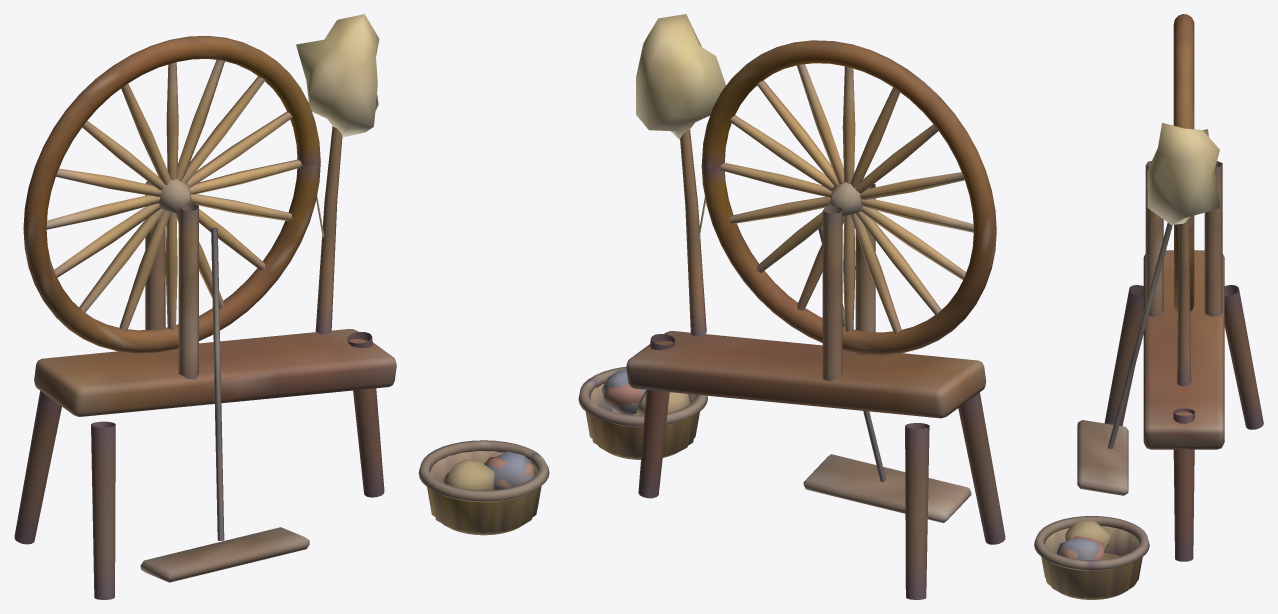
The model's file is cikrik.glb.
3 views of the same model, side by side, from view 1: azimuth 30°, elevation 25°; view 2: azimuth 150°, elevation 25°; view 3: azimuth 270°, elevation 25° (orthographic). The views are drawn at different scales.
Parts seen in each view (by area): view 1: cikrik_LOD0; view 2: cikrik_LOD0; view 3: cikrik_LOD0.
Boxes of the visible parts, box(x1,y1,x2,y2) form: cikrik_LOD0: box(14, 14, 549, 599); cikrik_LOD0: box(578, 14, 1005, 599); cikrik_LOD0: box(1034, 14, 1263, 599).
Size of what is drawn, in the model's own units: 1.29 by 1.33 by 0.6239.
